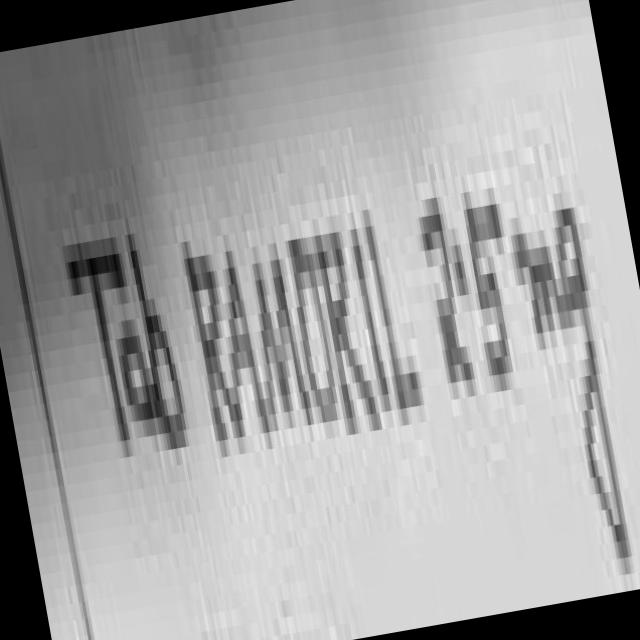2: (423, 197, 473, 374)
5: (467, 203, 512, 390)
A: (227, 251, 268, 436)
I: (354, 228, 393, 403)
L: (369, 226, 422, 424)
M: (256, 259, 312, 430)
O: (292, 238, 336, 422)
R: (319, 232, 381, 430), (188, 255, 241, 439)
T: (69, 242, 128, 456)
a: (122, 335, 167, 446)
b: (126, 209, 185, 449)
g: (559, 207, 630, 557)
m: (515, 233, 565, 341)
